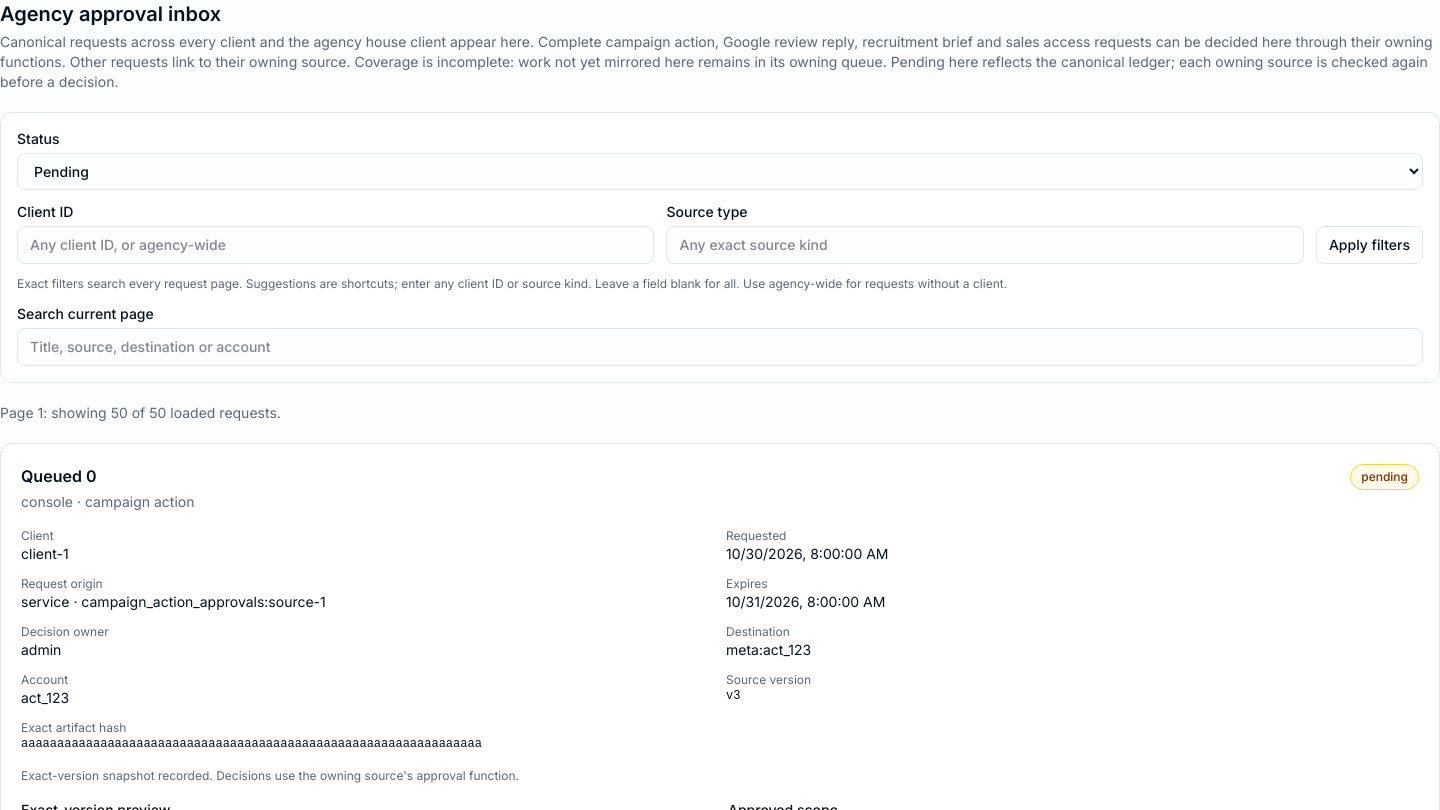
Test: unified approval inbox › applies exact source and client filters to requests beyond the first page
The image size is (1440, 810).
Check: the element "Off-page source" is not shown
Type "client-59" into the field labelled "Client ID" at (336,245), box [17,226,654,264]
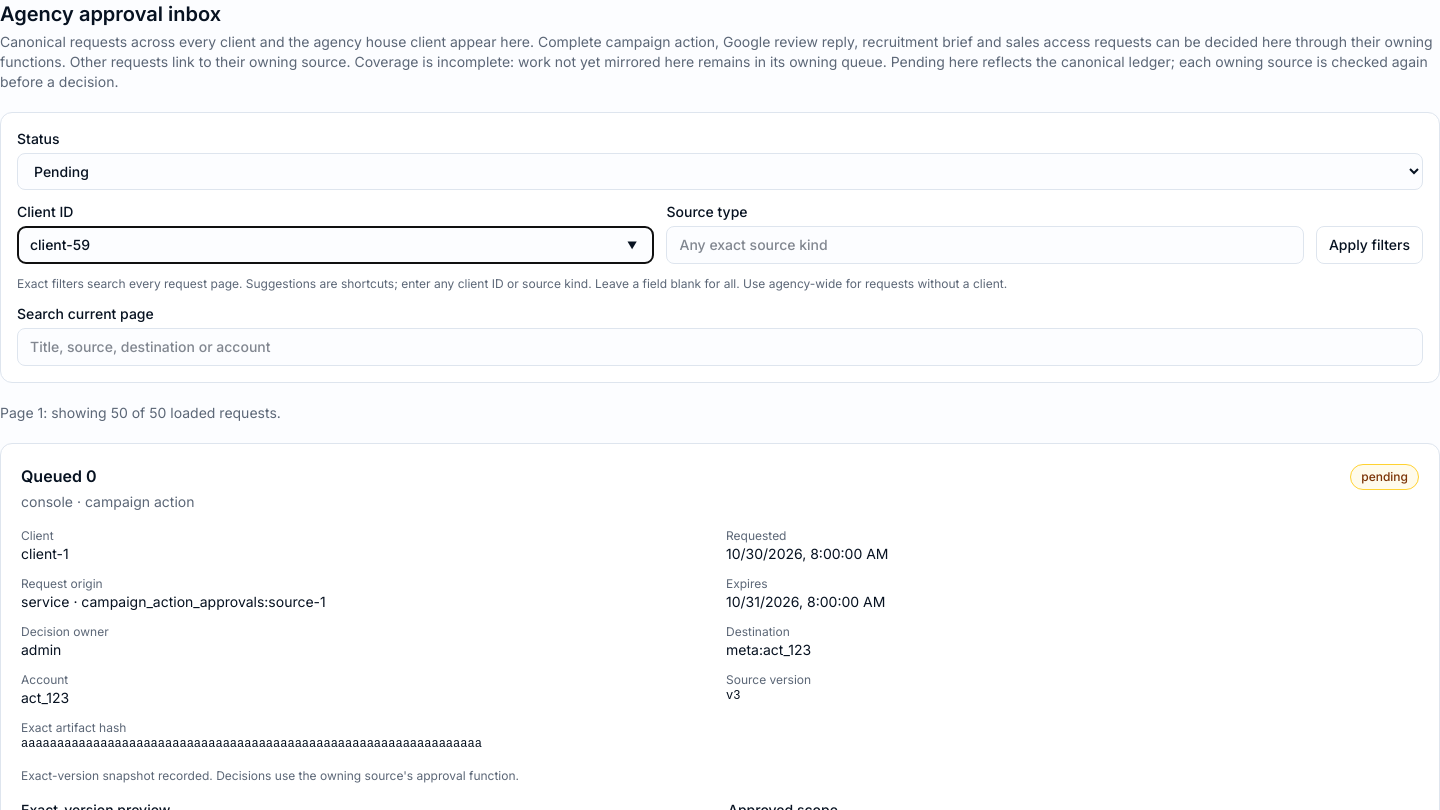
Type "future_source_kind" into the field labelled "Source type" at (985,245), box [666,226,1304,264]
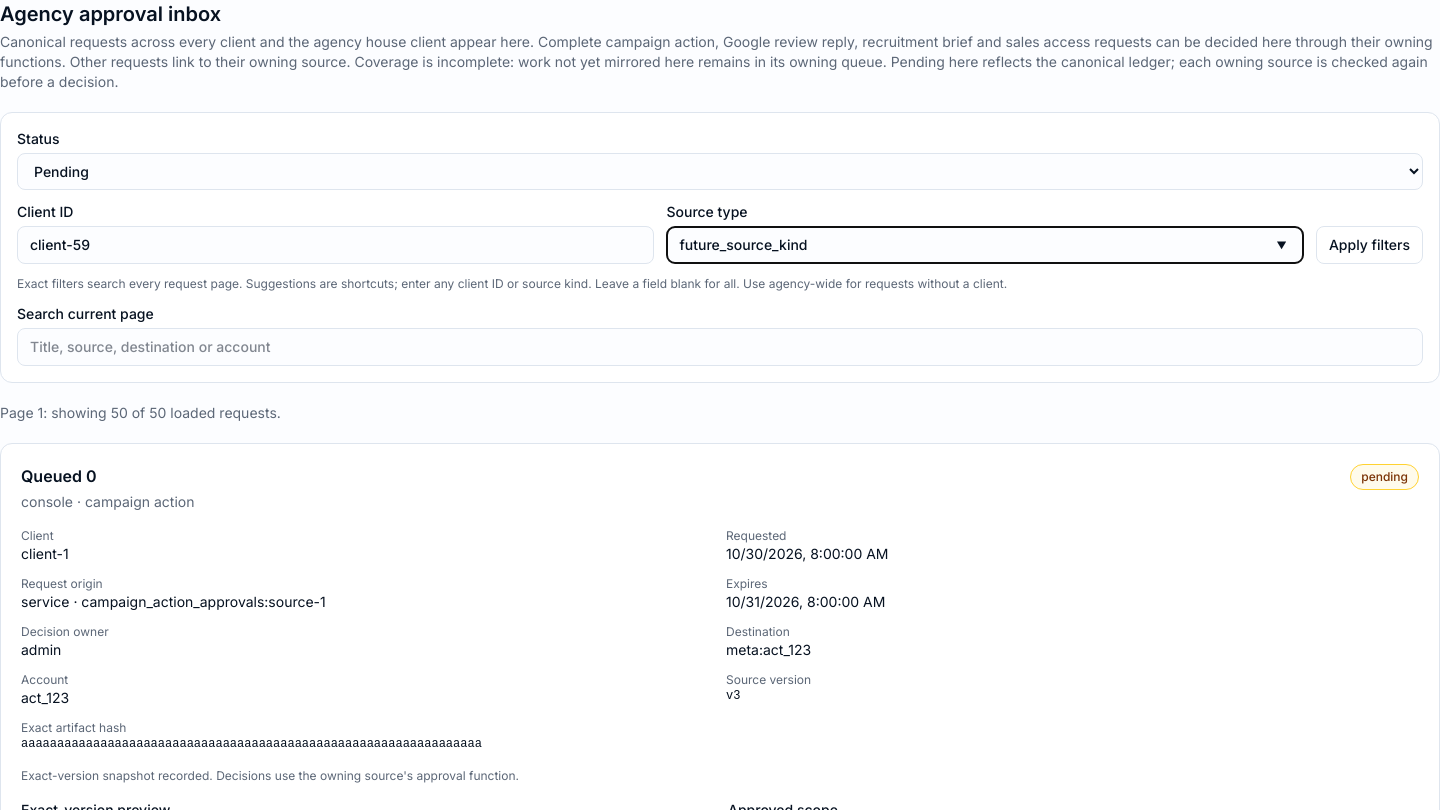
Click the button "Apply filters" at (1369,245), box [1316,226,1423,264]
(page scrolled)
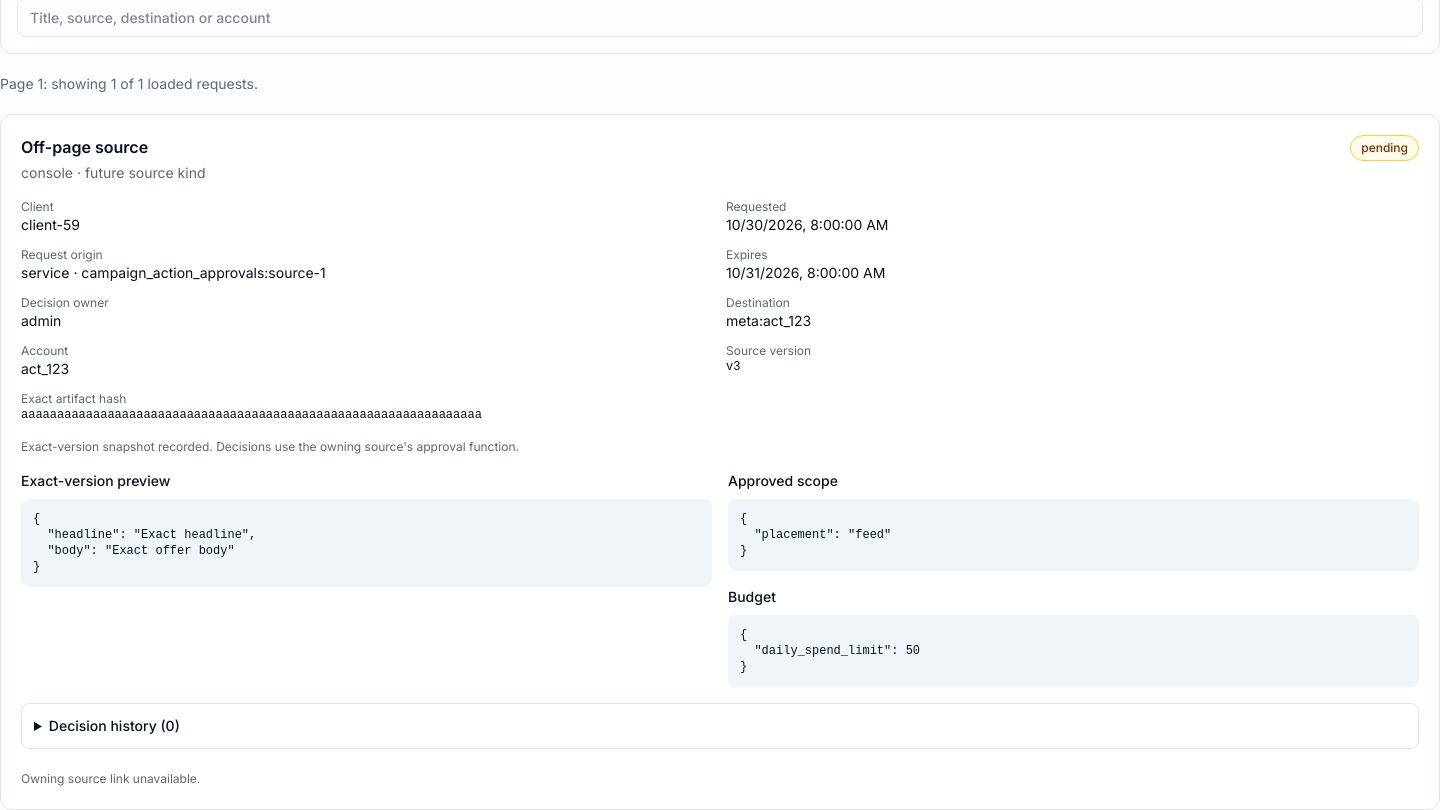
Check: the element "Off-page source" is shown
Check: the heading "Queued 0" is gone
